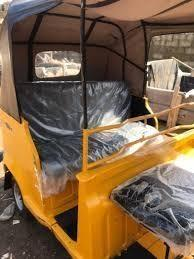keke: (1, 0, 194, 258)
